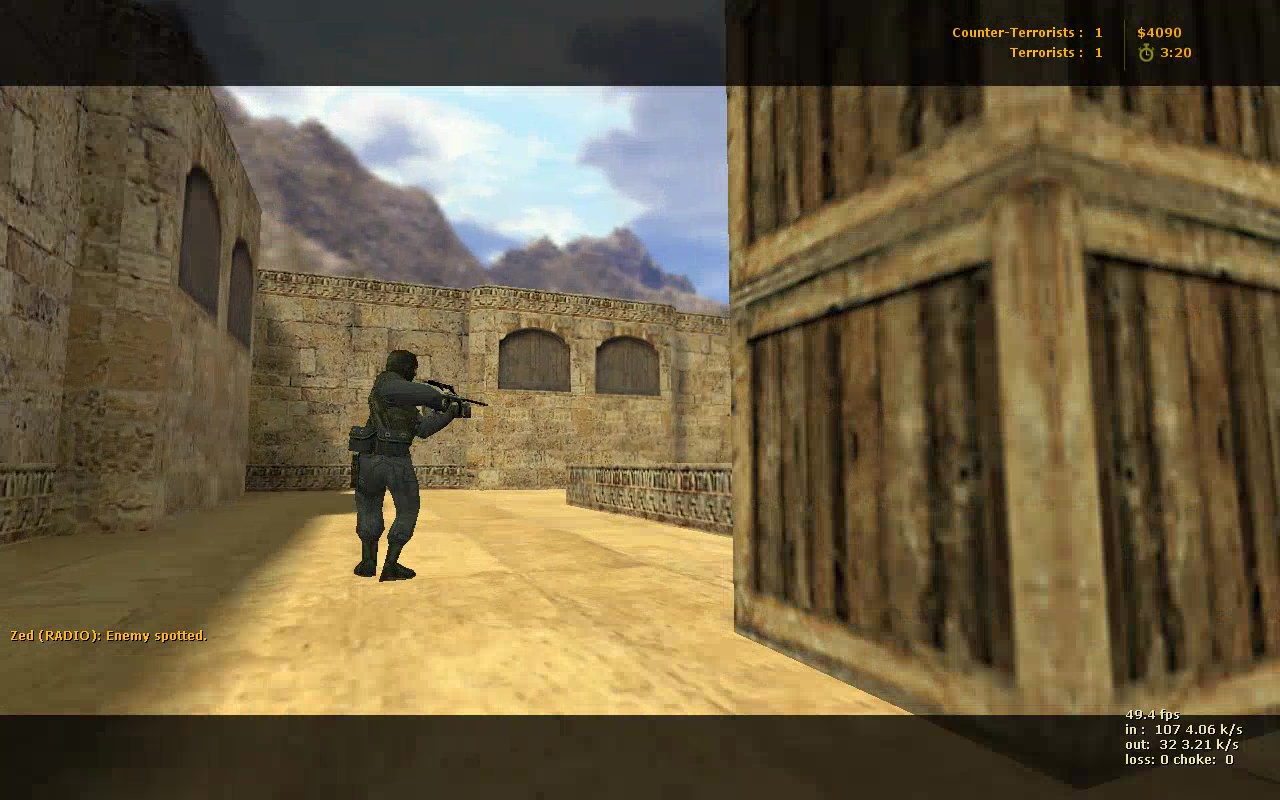ct: (349, 350, 473, 585)
